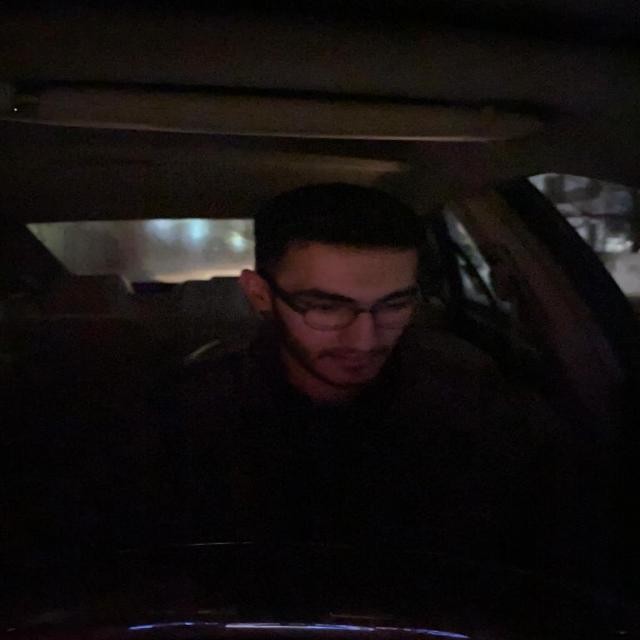drowsy: (232, 183, 433, 392)
